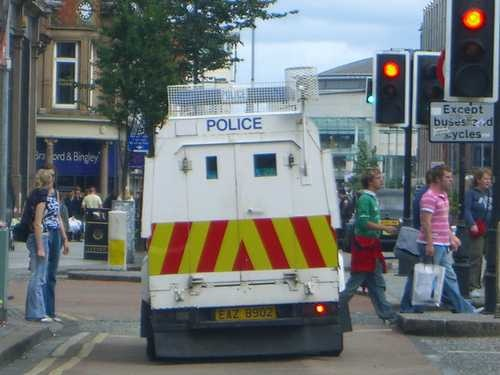Police Van: (104, 71, 362, 361)
